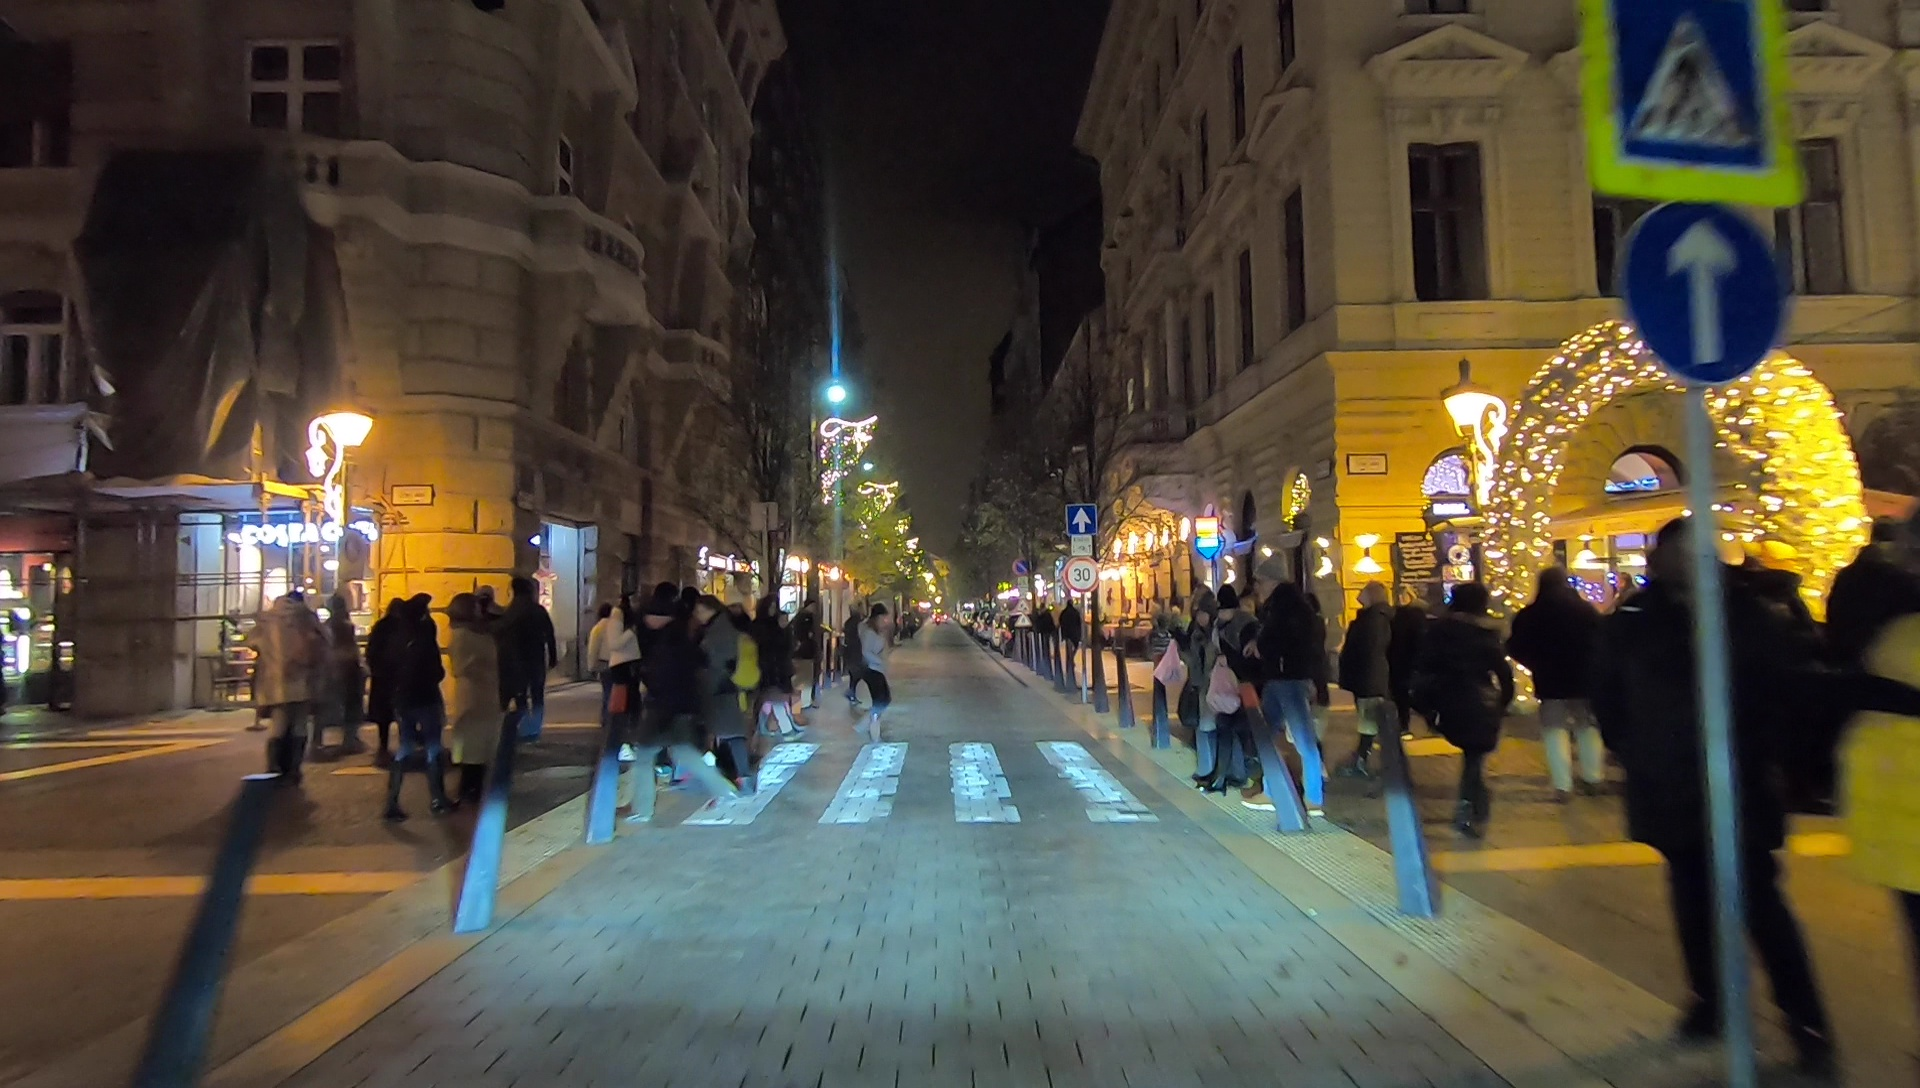person: (1617, 517, 1825, 1056), (635, 591, 738, 821), (1523, 569, 1626, 795), (1426, 588, 1502, 834), (1250, 588, 1330, 817), (388, 596, 457, 828), (250, 586, 315, 794), (698, 596, 763, 790), (1171, 588, 1230, 795), (442, 592, 496, 809), (1344, 583, 1398, 776), (1214, 591, 1260, 796), (504, 576, 560, 742), (317, 587, 364, 760), (375, 594, 410, 757), (760, 607, 799, 736), (788, 595, 826, 711), (861, 609, 892, 749), (841, 606, 868, 705), (1060, 601, 1084, 659)
